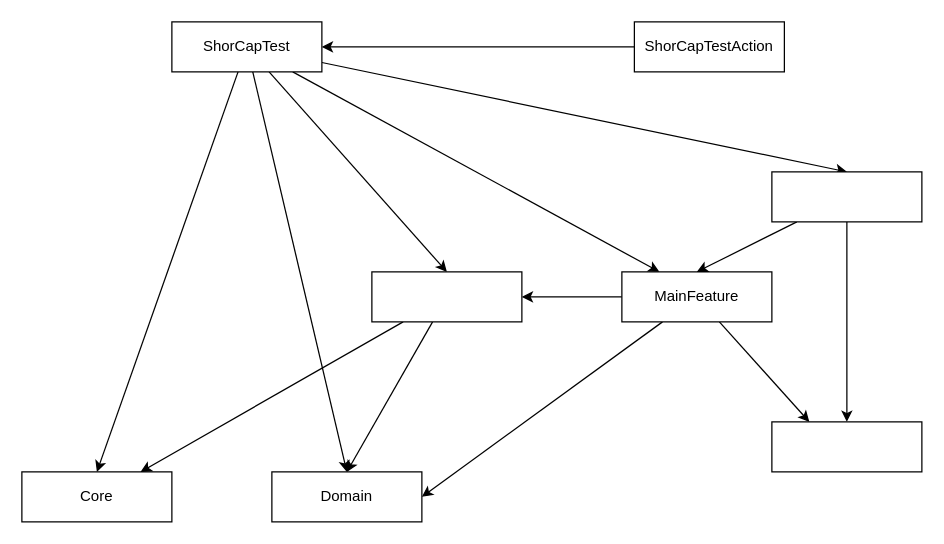
This 944x544 diagram has some shape labels left out. Here are the shapes that lost their labels. From the top down, the centre of each, then its label:
pixel 846 196: RootFeature
pixel 446 296: Data
pixel 846 446: DSKit
